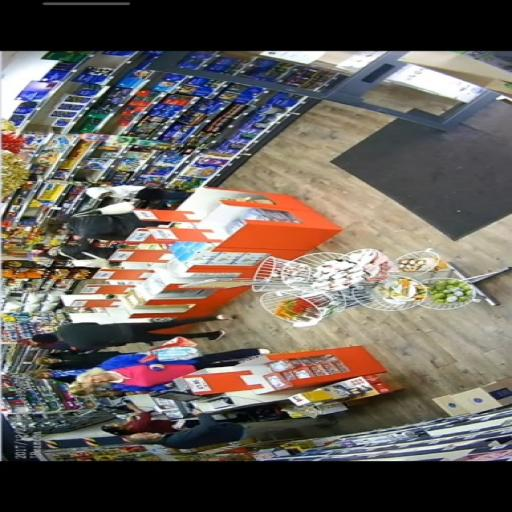workers: (29, 314, 231, 352), (38, 347, 270, 379), (57, 208, 141, 262), (69, 363, 200, 397), (119, 420, 247, 450), (84, 184, 200, 214), (101, 409, 199, 438)
